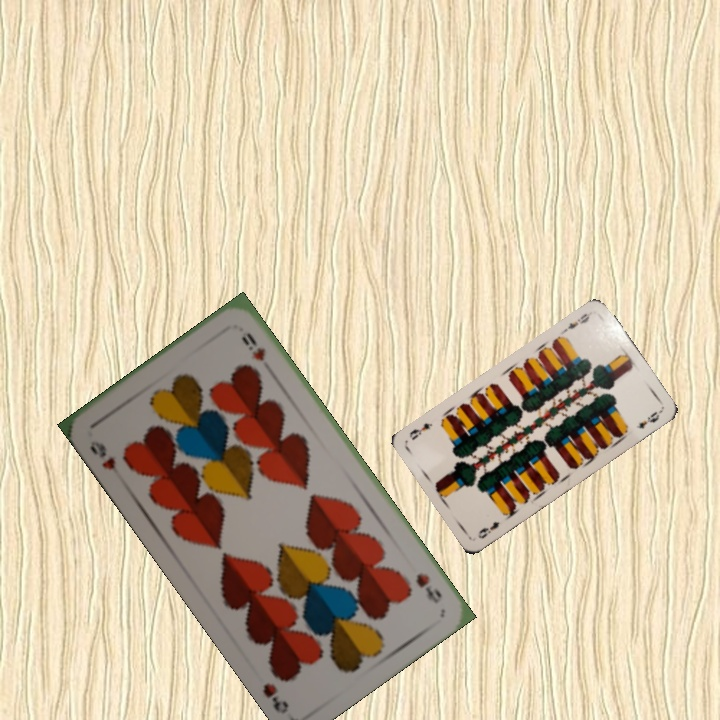E9: (559, 307, 595, 335), (473, 517, 502, 541)
H9: (411, 569, 445, 606), (85, 436, 118, 473)
